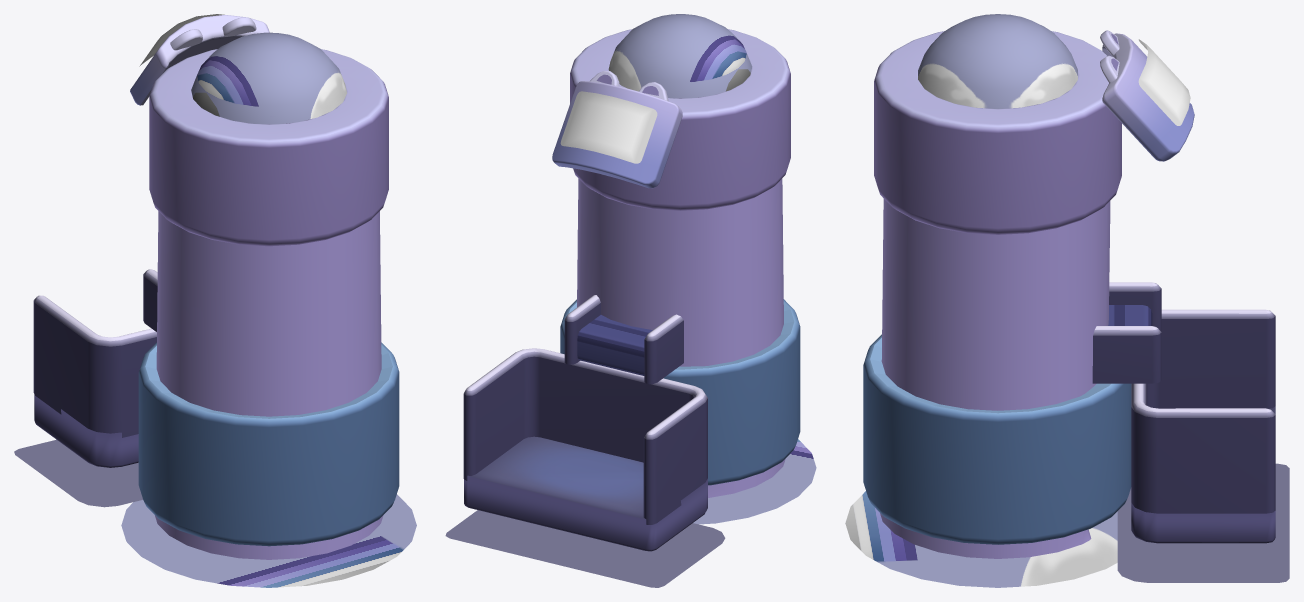
The model's file is Spawner.fbx.
3 views of the same model, side by side, from view 1: azimuth 30°, elevation 25°; view 2: azimuth 150°, elevation 25°; view 3: azimuth 270°, elevation 25° (orthographic). The views are drawn at different scales.
Parts seen in each view (by area): view 1: Tower, Tower1, Spawner_Shadow, Rail, Tower_Slime, Frame, Tower_Road; view 2: Tower, Rail, Tower_Road, Spawner_Shadow, Tower1, Tower_Slime, Frame, Screen, Rail_Road; view 3: Tower, Tower1, Rail, Spawner_Shadow, Tower_Slime, Frame, Tower_Road, Screen, Rail_Road.
Boxes of the visible parts, <box> form: Tower: <box>149,49,388,559</box>; Tower1: <box>138,342,399,546</box>; Spawner_Shadow: <box>14,439,416,587</box>; Rail: <box>33,269,157,437</box>; Tower_Slime: <box>191,32,346,124</box>; Frame: <box>130,15,269,105</box>; Tower_Road: <box>34,394,138,467</box>; Tower: <box>570,29,790,497</box>; Rail: <box>463,295,707,524</box>; Tower_Road: <box>464,436,707,551</box>; Spawner_Shadow: <box>445,439,816,587</box>; Tower1: <box>560,299,800,485</box>; Tower_Slime: <box>608,14,752,98</box>; Frame: <box>552,71,682,188</box>; Screen: <box>560,91,657,163</box>; Rail_Road: <box>577,315,652,375</box>; Tower: <box>874,31,1121,558</box>; Tower1: <box>863,334,1131,544</box>; Rail: <box>1092,282,1275,513</box>; Spawner_Shadow: <box>845,463,1289,587</box>; Tower_Slime: <box>918,14,1077,108</box>; Frame: <box>1100,30,1194,161</box>; Tower_Road: <box>1131,406,1275,543</box>; Screen: <box>1138,39,1190,125</box>; Rail_Road: <box>1108,305,1152,325</box>.
Size of the model in its own units: 371 by 670 by 540.
Materials: 2 (2 with a texture image).
